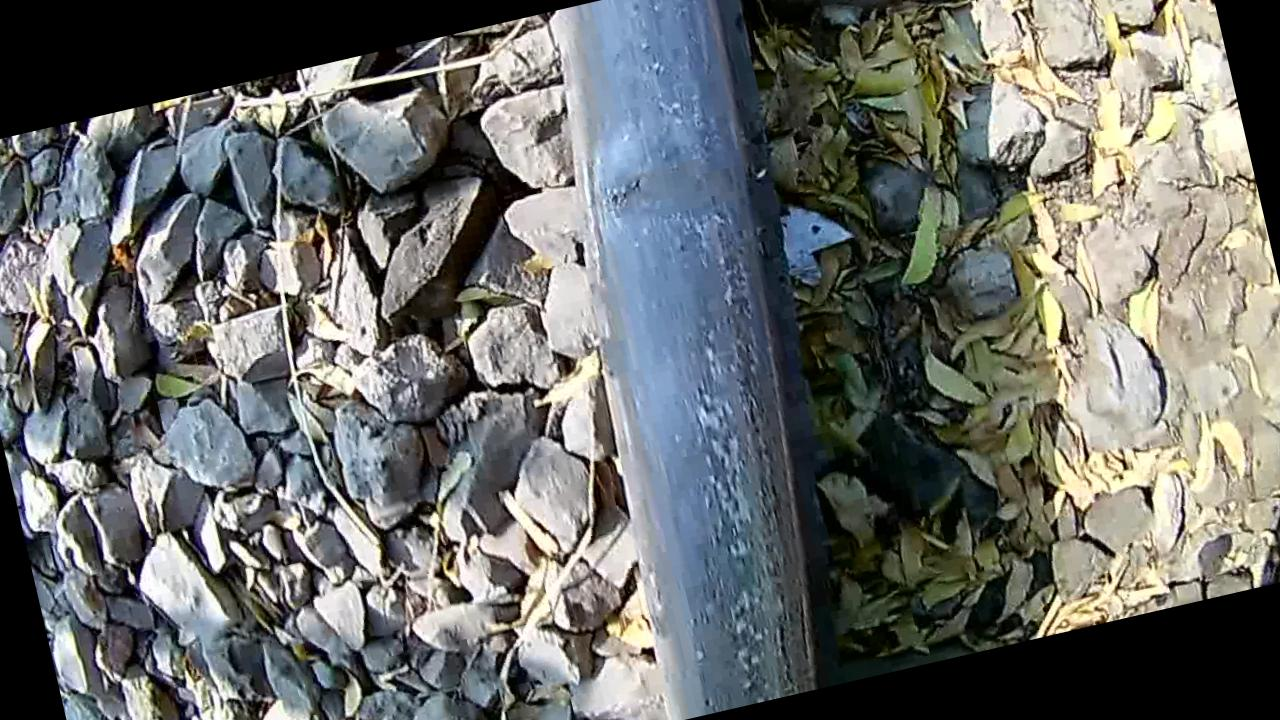bolt_missing: (573, 62, 793, 380)
